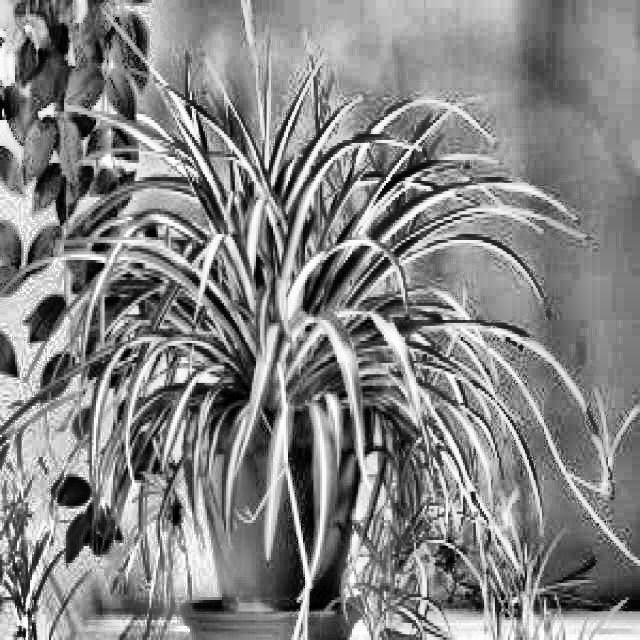plants: (128, 120, 539, 639), (0, 1, 119, 371)
